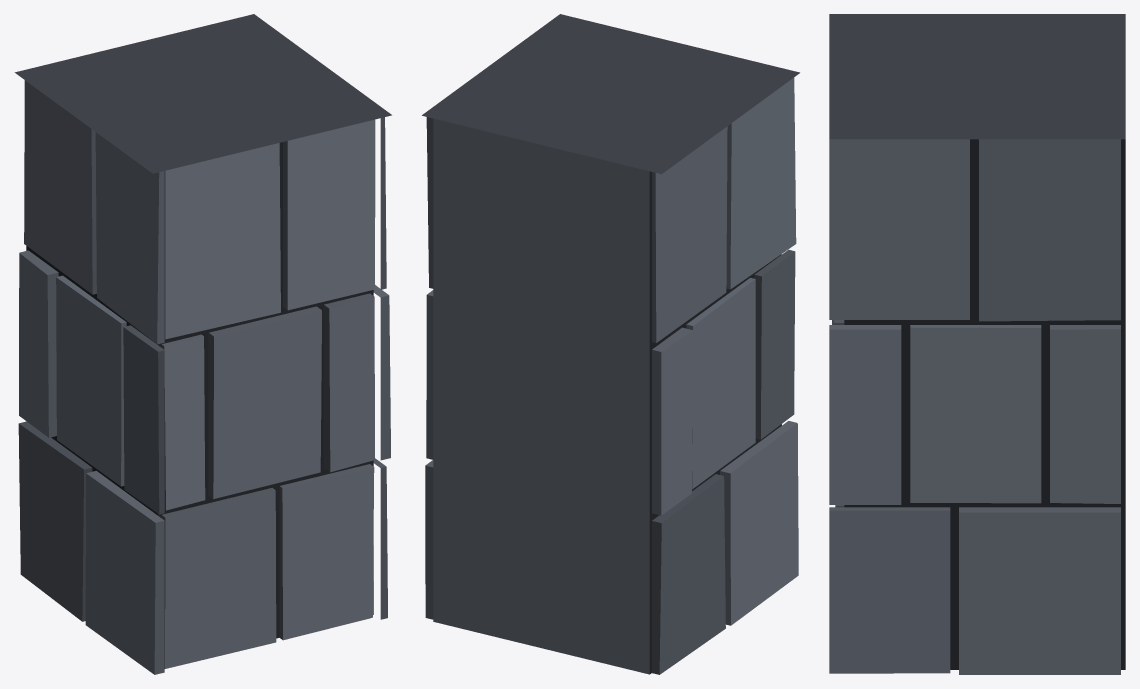
The model's file is tile_wall_1.glb.
3 renders of one model, left to right at view 1: azimuth 30°, elevation 25°; view 2: azimuth 150°, elevation 25°; view 3: azimuth 270°, elevation 25°, orthographic. The views are drawn at different scales.
Visible parts, largest first — view 1: tile_wall_1; view 2: tile_wall_1; view 3: tile_wall_1.
Part boxes in pixels (x1,y1,x2,y2): tile_wall_1: (14, 14, 391, 674); tile_wall_1: (422, 14, 799, 674); tile_wall_1: (829, 14, 1125, 674).
Bounding box in the file's own units: 1 × 2 × 1.
